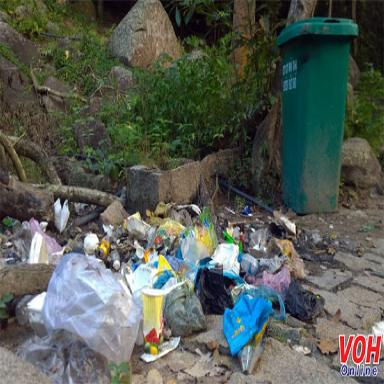plasticbag: (22, 244, 155, 368), (224, 281, 278, 370), (162, 279, 205, 341), (175, 226, 216, 274)
